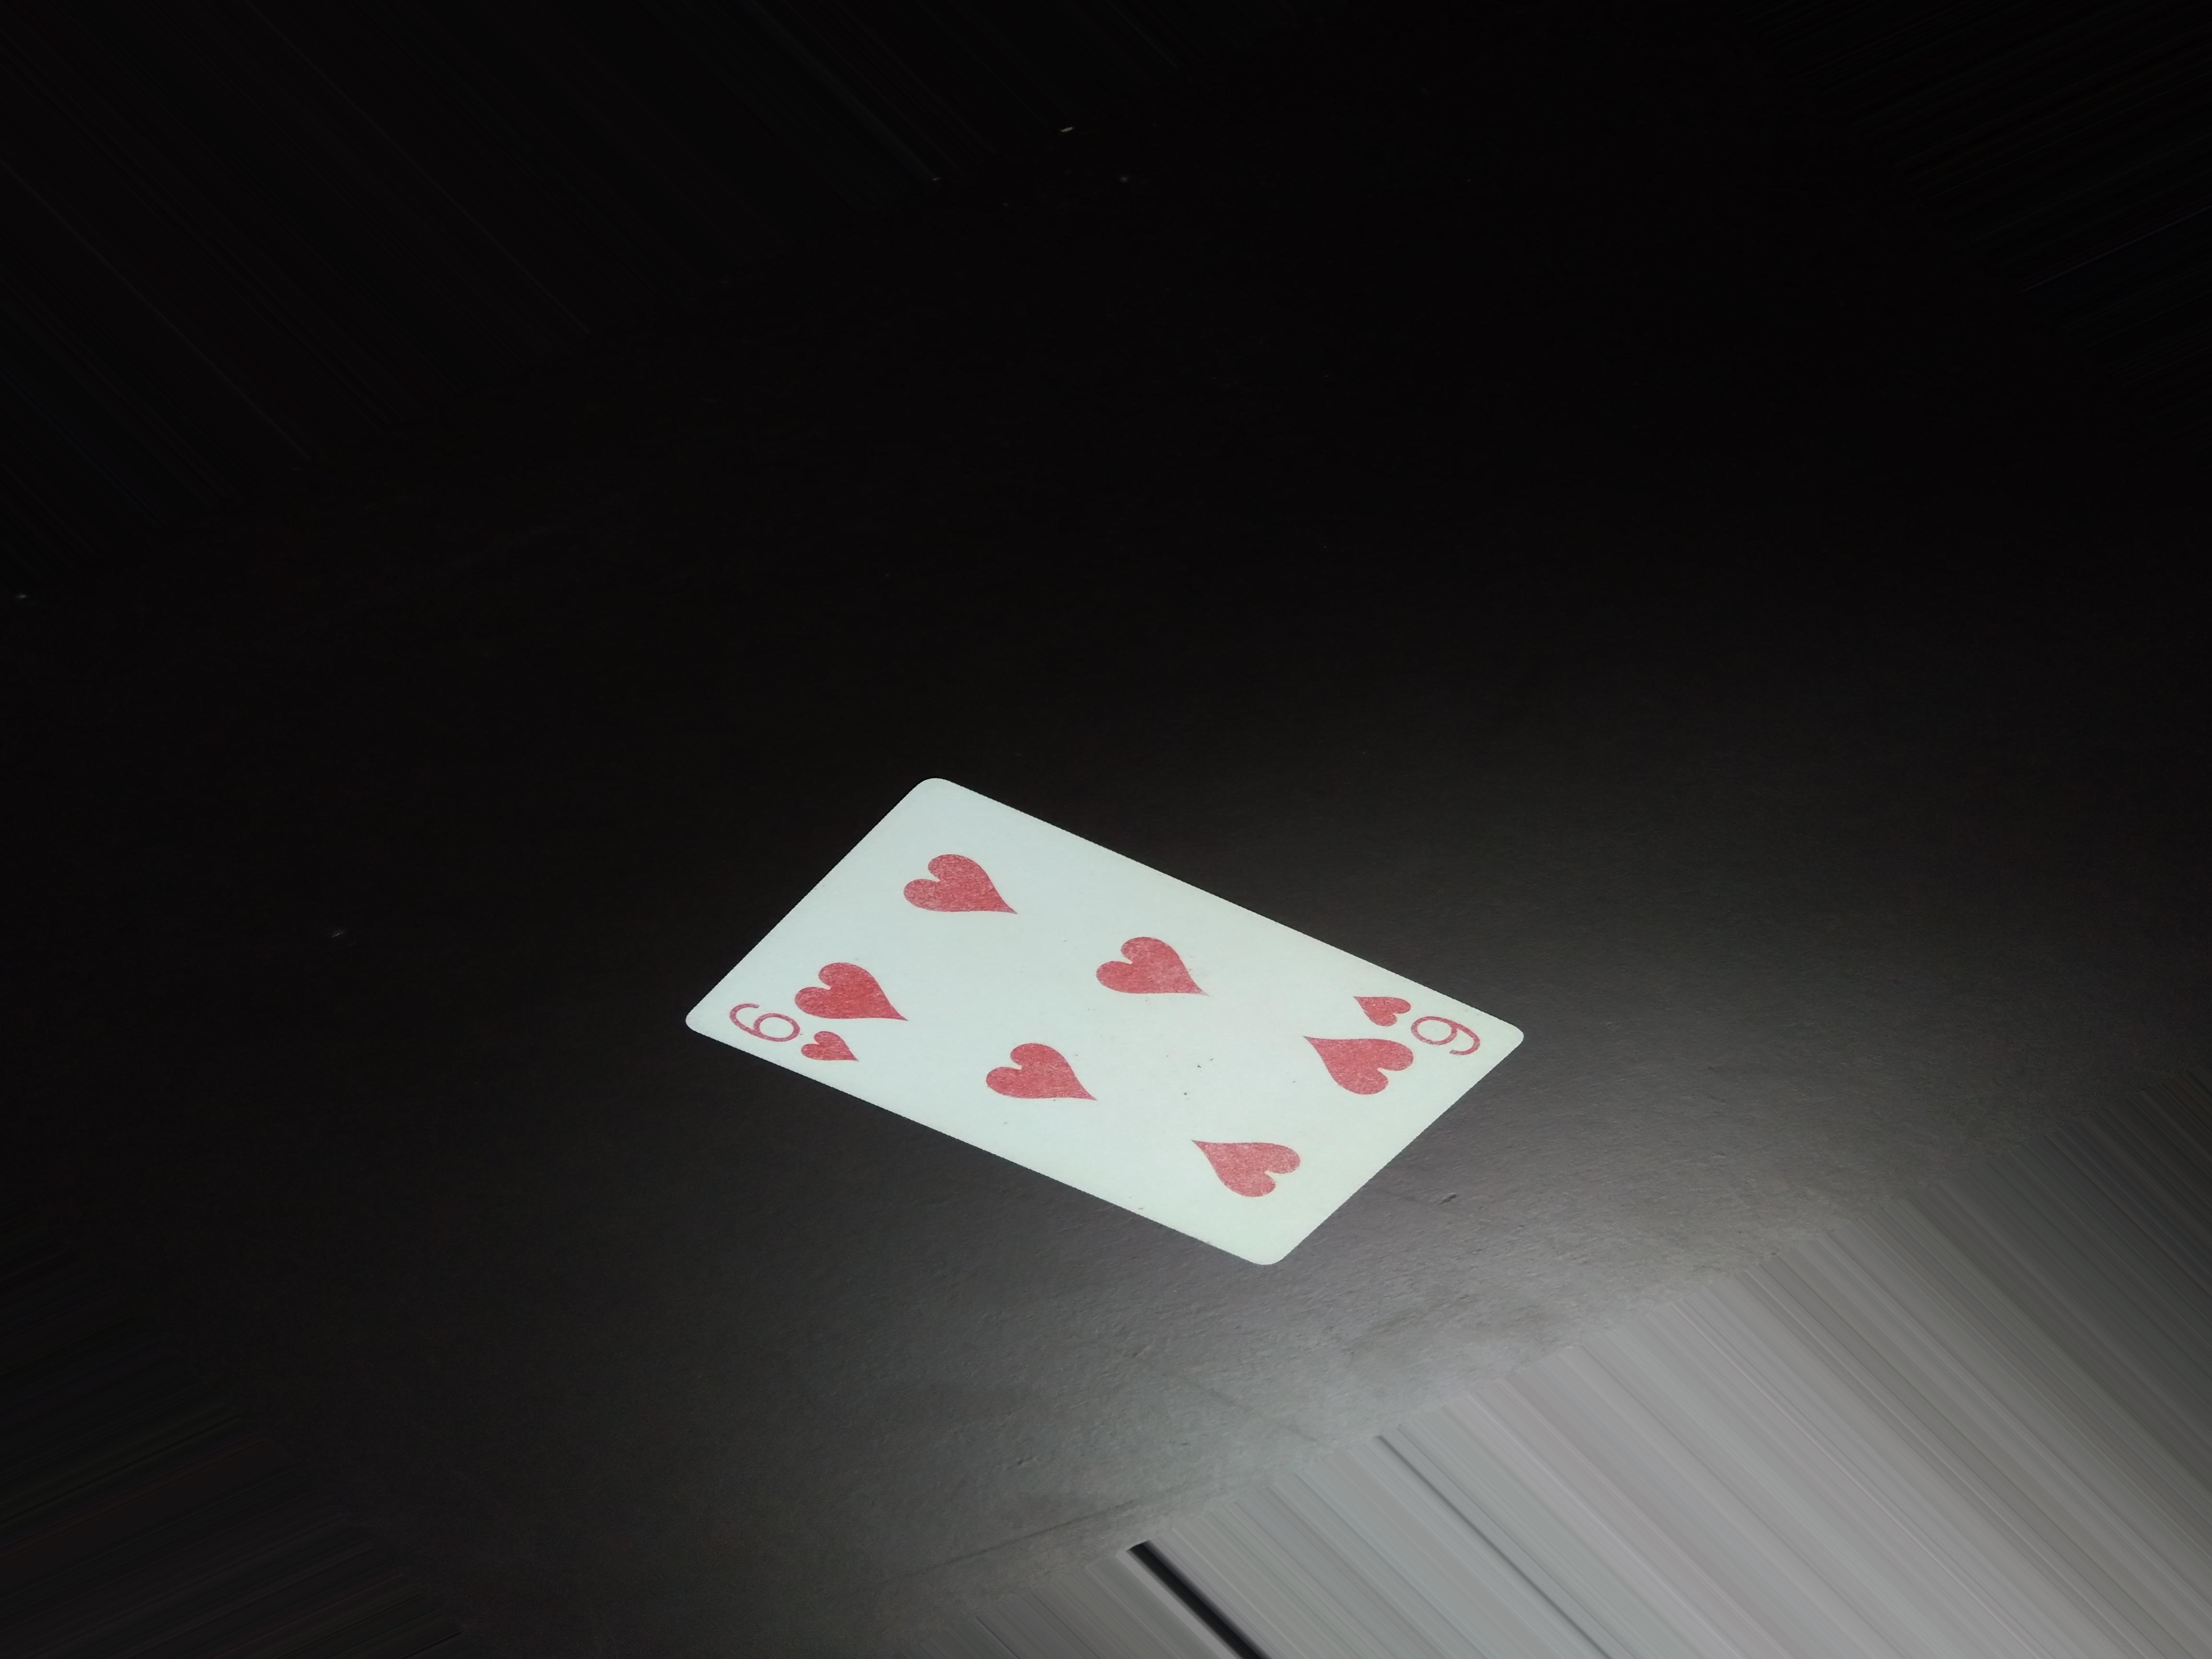6H: (728, 992, 874, 1075)
